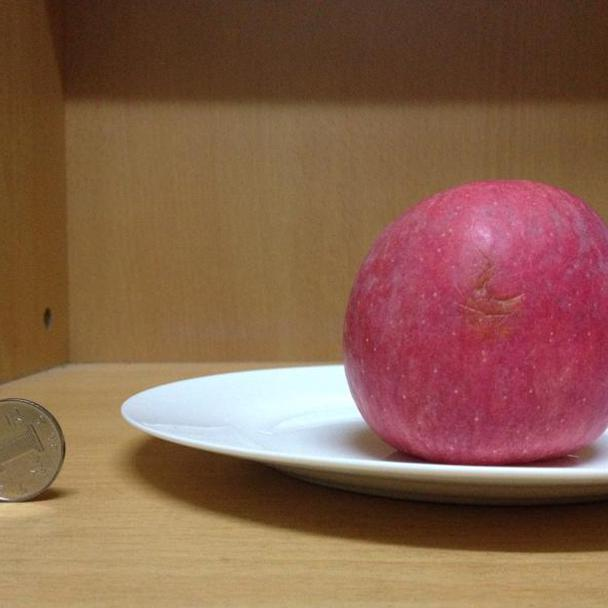apple: (342, 180, 608, 465)
